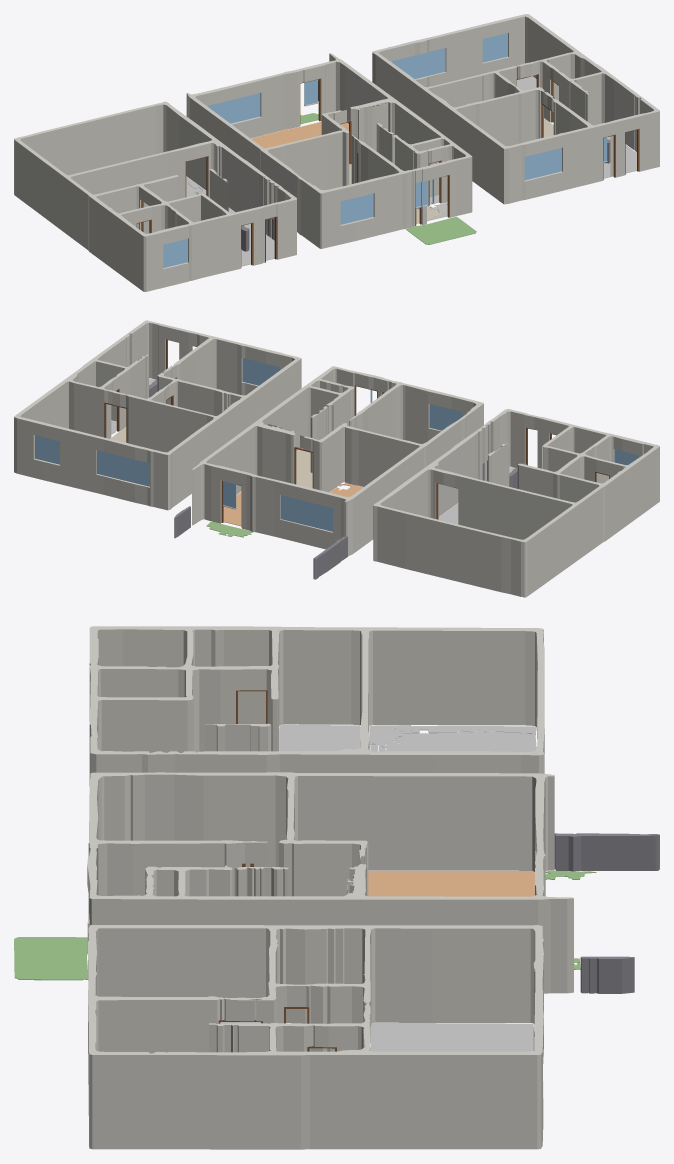
3 views of the same model, one above another, from view 1: azimuth 30°, elevation 25°; view 2: azimuth 150°, elevation 25°; view 3: azimuth 270°, elevation 25° (orthographic). The views are drawn at different scales.
Visible parts, largest first — view 1: walls, floor_0_Outdoor, window_20, window_18, floor_5_Living_Room, window_24, window_23, window_21, window_22, floor_23_Undefined, railings; view 2: walls, railings, window_18, window_20, window_24, floor_5_Living_Room, window_23, window_21, floor_14_Entry; view 3: walls, railings, floor_9_Bed_Room, floor_5_Living_Room, floor_0_Outdoor, floor_17_Storage, floor_23_Undefined, floor_25_Undefined.
Boxes of the visible parts, box(x1,y1,x2,y2) form: walls: box(14, 14, 659, 291); floor_0_Outdoor: box(406, 216, 476, 244); window_20: box(392, 48, 445, 79); window_18: box(208, 93, 260, 123); floor_5_Living_Room: box(251, 121, 350, 164); window_24: box(524, 148, 561, 180); window_23: box(340, 193, 373, 224); window_21: box(482, 33, 507, 62); window_22: box(163, 238, 187, 267); floor_23_Undefined: box(228, 208, 274, 266); railings: box(241, 79, 610, 251); walls: box(14, 320, 659, 597); railings: box(149, 379, 526, 579); window_18: box(280, 495, 332, 531); window_20: box(97, 450, 149, 486); window_24: box(242, 358, 279, 385); floor_5_Living_Room: box(223, 483, 363, 526); window_23: box(429, 404, 462, 430); window_21: box(35, 435, 59, 464); floor_14_Entry: box(296, 448, 312, 488); walls: box(87, 626, 573, 1149); railings: box(554, 833, 659, 993); floor_9_Bed_Room: box(370, 1023, 533, 1051); floor_5_Living_Room: box(368, 871, 534, 896); floor_0_Outdoor: box(14, 937, 87, 980); floor_17_Storage: box(370, 729, 536, 751); floor_23_Undefined: box(279, 724, 360, 751); floor_25_Undefined: box(394, 726, 535, 734).
Bounding box in the file's own units: 26.33 × 2.72 × 16.75.
